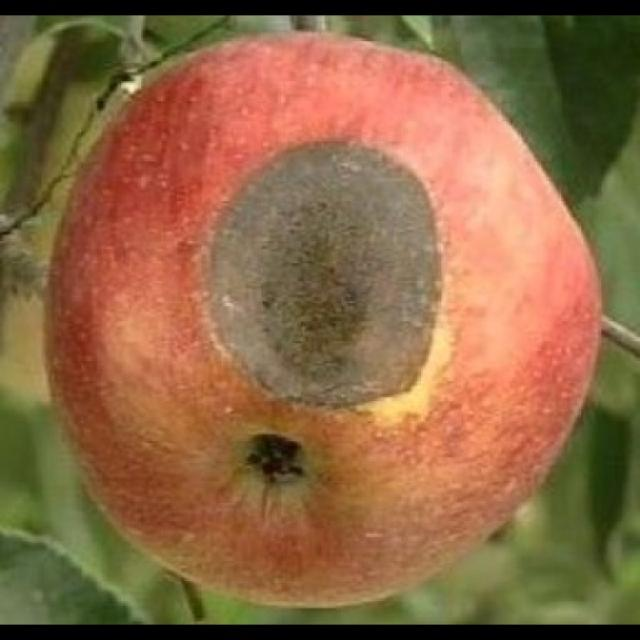Rotten Apple: (38, 28, 604, 608)
